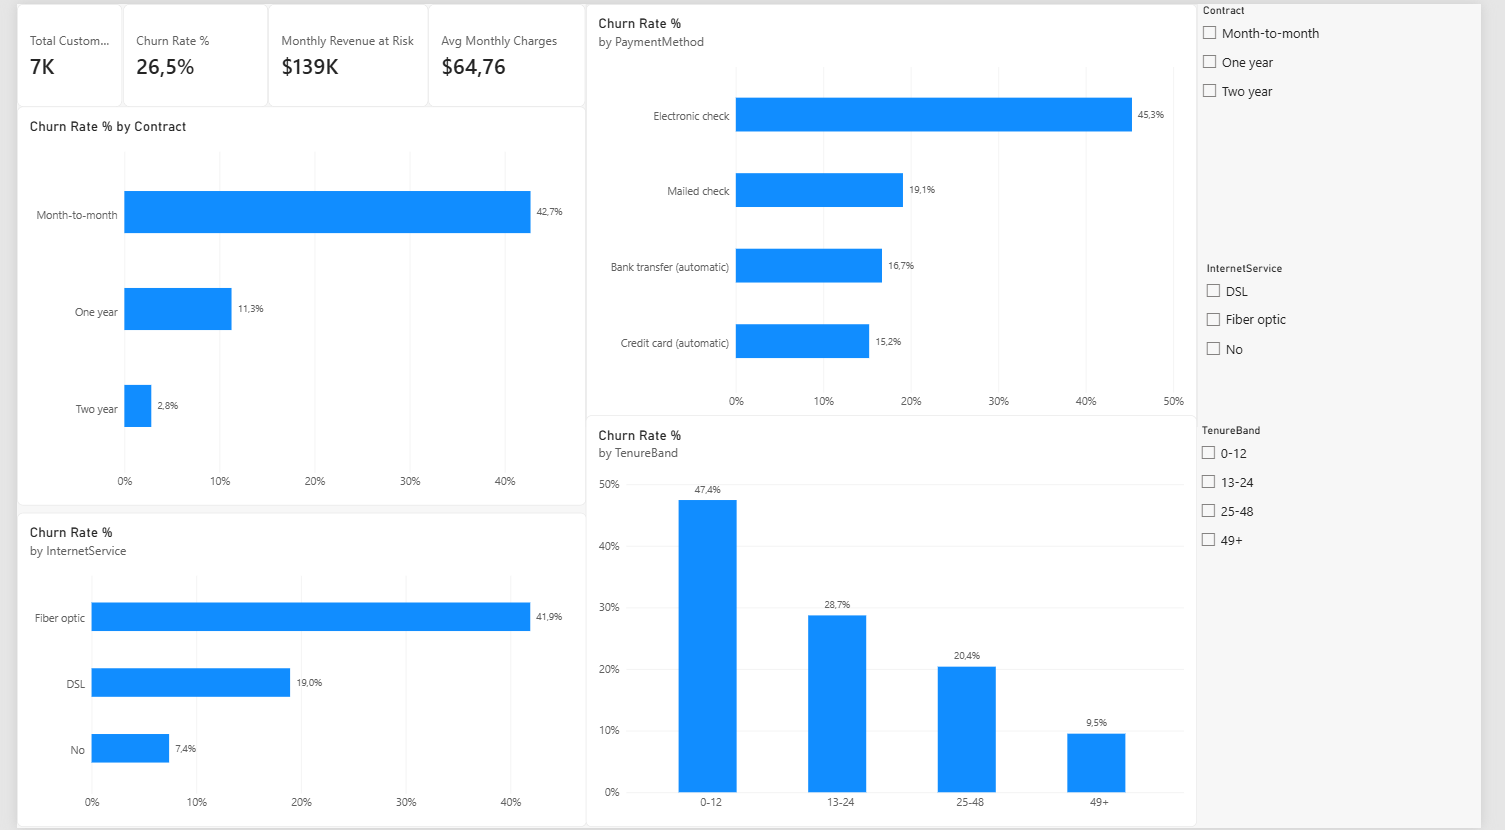

Layout of this report page (visuals, bound fields, positions):
{"tool":"powerbi","page":{"name":"Page 1","canvas":[1920,1080],"ordinal":0},"visuals":[{"type":"cardVisual","fields":{"Data":["Telco.Avg Monthly Charges"]},"box":[540,0,206.7,135],"z":4},{"type":"cardVisual","fields":{"Data":["Telco.Monthly Revenue at Risk"]},"box":[330,0,210,135],"z":5},{"type":"barChart","title":"Churn Rate % by Contract","fields":{"Category":["Telco.Contract"],"Y":["Telco.Churn Rate %"]},"box":[0,135,746.7,523.3],"z":6},{"type":"barChart","fields":{"Category":["Telco.InternetService"],"Y":["Telco.Churn Rate %"]},"box":[0,668,747,412],"z":7},{"type":"barChart","fields":{"Category":["Telco.PaymentMethod"],"Y":["Telco.Churn Rate %"]},"box":[746.7,0,801.7,553.3],"z":8},{"type":"columnChart","fields":{"Category":["Telco.TenureBand"],"Y":["Telco.Churn Rate %"]},"box":[746.6,539.7,801.7,539.7],"z":9},{"type":"cardVisual","fields":{"Data":["Telco.Total Customers"]},"box":[0,0,138.2,135.3],"z":10},{"type":"cardVisual","fields":{"Data":["Telco.Churn Rate %"]},"box":[138.8,0,190.4,135.3],"z":11},{"type":"slicer","fields":{"Values":["Telco.Contract"]},"box":[1548.3,0,320.7,337.9],"z":12},{"type":"slicer","fields":{"Values":["Telco.InternetService"]},"box":[1551.7,337.9,353.4,308.6],"z":13},{"type":"slicer","fields":{"Values":["Telco.TenureBand"]},"box":[1546.6,550,363.8,260.3],"z":14}]}

Visuals, with their boxes on the page's 1920x1080 design canvas (x1, y1, x2, y2). These are canvas units, not pixel positions in the 1505x830 screenshot, which may show the page scaled, cropped or inside an application window:
cardVisual - Telco.Avg Monthly Charges: region(540, 0, 747, 135)
cardVisual - Telco.Monthly Revenue at Risk: region(330, 0, 540, 135)
"Churn Rate % by Contract" barChart: region(0, 135, 747, 658)
barChart - Telco.InternetService x Telco.Churn Rate %: region(0, 668, 747, 1080)
barChart - Telco.PaymentMethod x Telco.Churn Rate %: region(747, 0, 1548, 553)
columnChart - Telco.TenureBand x Telco.Churn Rate %: region(747, 540, 1548, 1079)
cardVisual - Telco.Total Customers: region(0, 0, 138, 135)
cardVisual - Telco.Churn Rate %: region(139, 0, 329, 135)
slicer - Telco.Contract: region(1548, 0, 1869, 338)
slicer - Telco.InternetService: region(1552, 338, 1905, 646)
slicer - Telco.TenureBand: region(1547, 550, 1910, 810)
